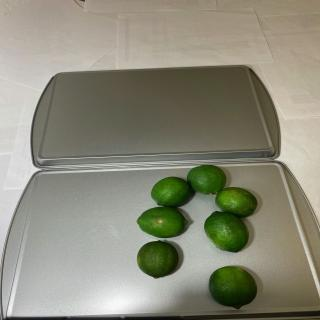Chilli: (136, 164, 260, 310)
Lemon: (208, 266, 258, 310), (204, 210, 249, 252), (136, 206, 188, 238), (137, 240, 179, 279), (215, 186, 257, 218), (151, 176, 191, 207), (186, 164, 226, 195)
